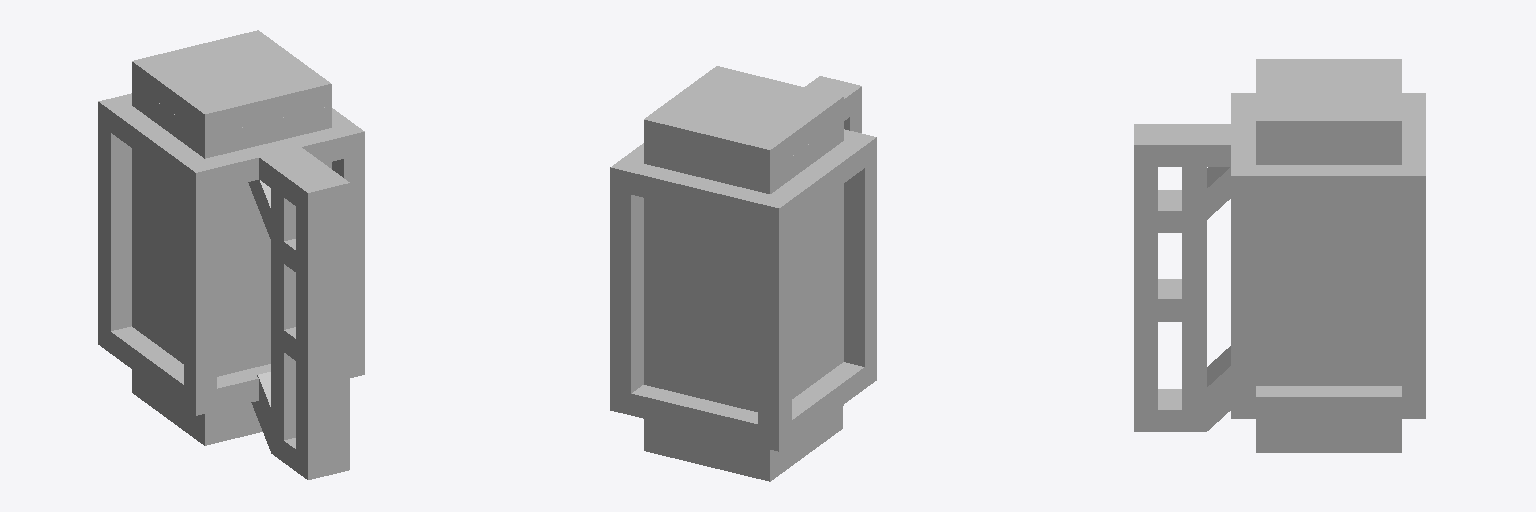
File: lantern.obj
The picture shows the model from 3 angles: view 1: azimuth 30°, elevation 25°; view 2: azimuth 150°, elevation 25°; view 3: azimuth 270°, elevation 25°; orthographic projection.
Visible parts, largest first — view 1: base, attach_s, attach_t, attach_b; view 2: base, attach_t, attach_b, attach_s; view 3: base, attach_s, attach_t, attach_b.
Boxes of the visible parts, x1=… form: base: x1=98, y1=84, x2=364, y2=423; attach_s: x1=248, y1=147, x2=349, y2=479; attach_t: x1=132, y1=30, x2=331, y2=136; attach_b: x1=132, y1=371, x2=262, y2=445; base: x1=610, y1=119, x2=876, y2=459; attach_t: x1=644, y1=66, x2=843, y2=193; attach_b: x1=644, y1=407, x2=842, y2=481; attach_s: x1=805, y1=76, x2=861, y2=132; base: x1=1231, y1=93, x2=1425, y2=418; attach_s: x1=1134, y1=124, x2=1230, y2=431; attach_t: x1=1256, y1=59, x2=1401, y2=164; attach_b: x1=1256, y1=419, x2=1401, y2=452.
Bounding box in the file's own units: 0.5 × 0.9375 × 0.75.